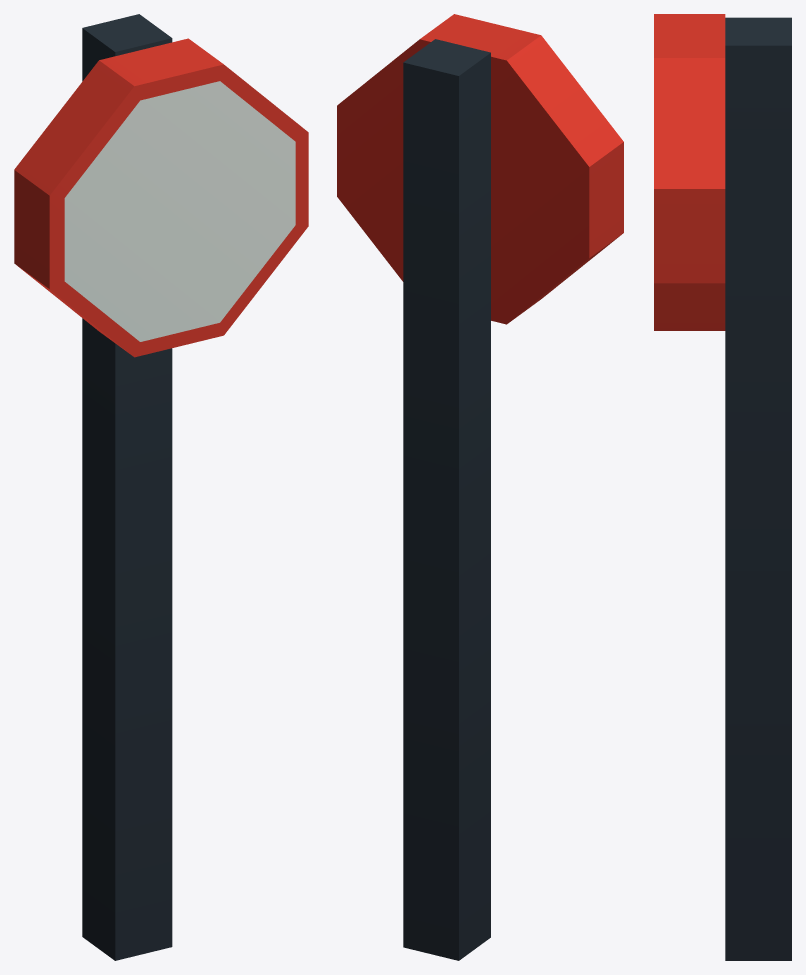
File: Road_sign_5.fbx
3 renders of one model, left to right at view 1: azimuth 30°, elevation 25°; view 2: azimuth 150°, elevation 25°; view 3: azimuth 270°, elevation 25°, orthographic. The views are drawn at different scales.
Visible parts, largest first — view 1: Road_sign_5; view 2: Road_sign_5; view 3: Road_sign_5.
Boxes of the visible parts, box(x1,y1,x2,y2) form: Road_sign_5: box(14, 14, 308, 960); Road_sign_5: box(337, 14, 623, 960); Road_sign_5: box(654, 14, 791, 960).
Size of the model in its own units: 107 by 359 by 49.75.
